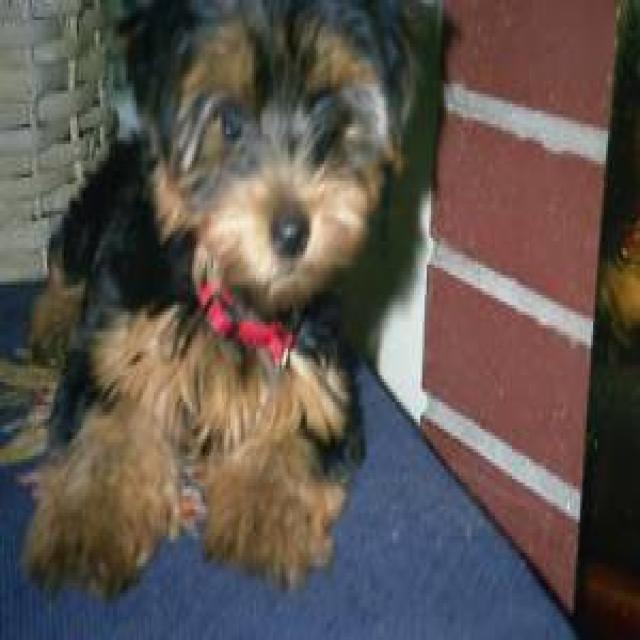dog-yorkshire_terrier: (17, 3, 435, 603)
